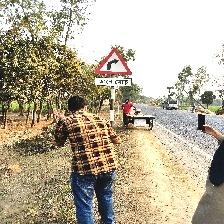Right-turn: (94, 48, 133, 88)
